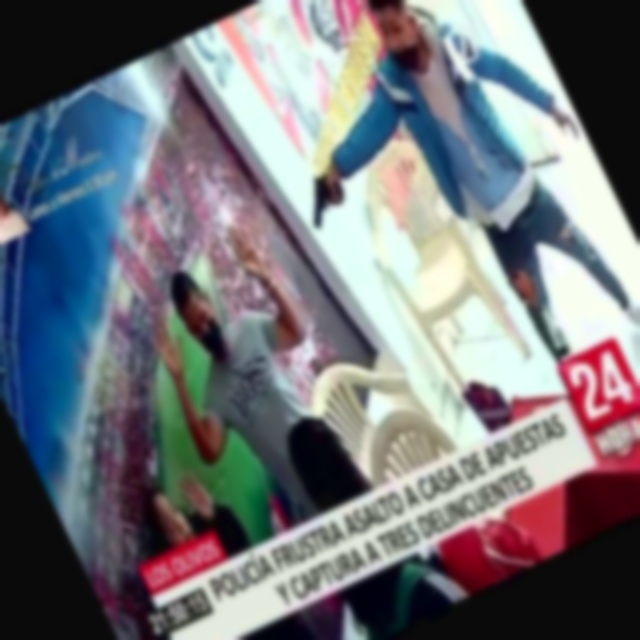gun: (284, 149, 364, 245)
